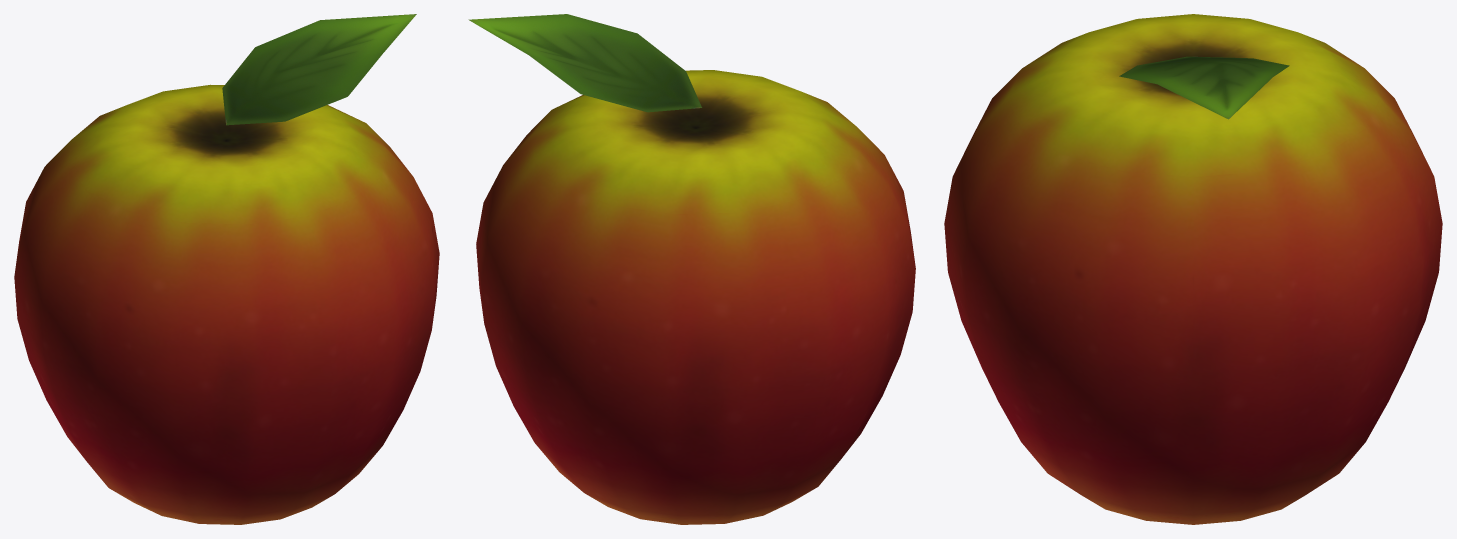
Rendered from apple-medium-poly.fbx.
The picture shows the model from 3 angles, left to right: view 1: azimuth 30°, elevation 25°; view 2: azimuth 150°, elevation 25°; view 3: azimuth 270°, elevation 25°; orthographic projection. The views are drawn at different scales.
Parts seen in each view (by area): view 1: apple_mp, leafs_inv_2; view 2: apple_mp, leafs_inv_2; view 3: apple_mp, leafs_inv_2.
Boxes of the visible parts, x1,y1,x2,y2 form: apple_mp: (14, 84, 439, 524); leafs_inv_2: (222, 14, 416, 125); apple_mp: (476, 70, 915, 524); leafs_inv_2: (468, 14, 701, 112); apple_mp: (944, 14, 1442, 524); leafs_inv_2: (1119, 56, 1289, 119).
Size of the model in its own units: 161 by 163 by 153.
2 materials, 2 textured.
